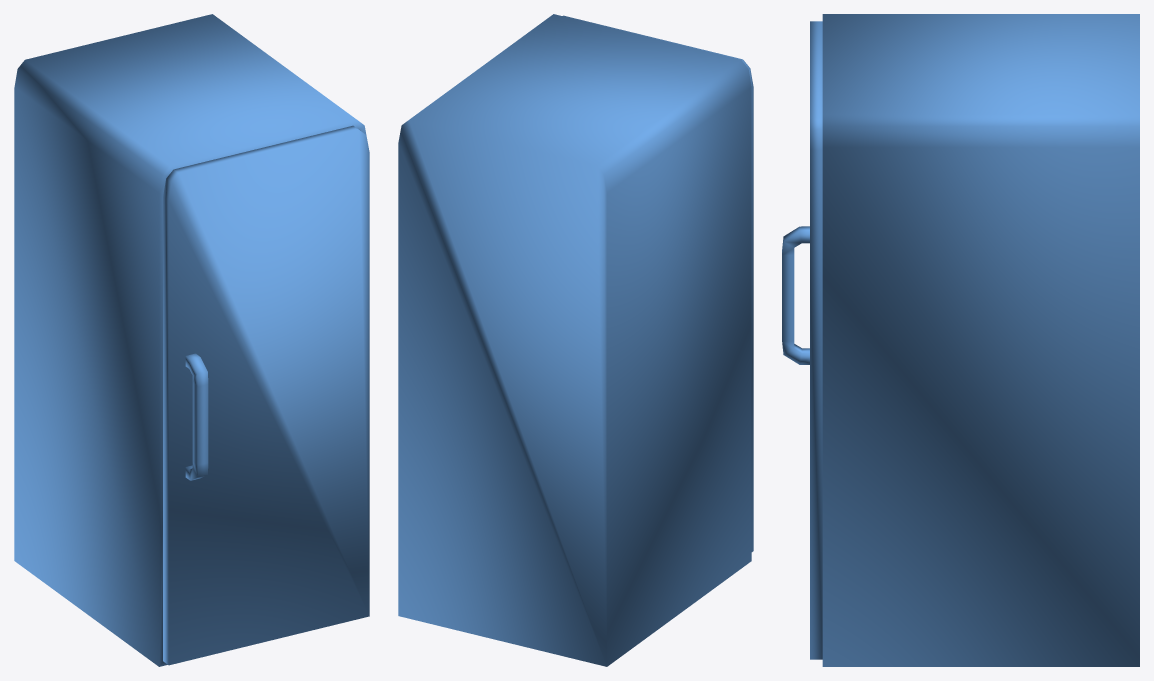
File: Fridge.fbx
The picture shows the model from 3 angles, left to right: view 1: azimuth 30°, elevation 25°; view 2: azimuth 150°, elevation 25°; view 3: azimuth 270°, elevation 25°; orthographic projection. The views are drawn at different scales.
Parts seen in each view (by area): view 1: Fridge, Куб.006; view 2: Fridge, Куб.006; view 3: Fridge, Куб.006.
Boxes of the visible parts, <box> form: Fridge: <box>14,14,366,666</box>; Куб.006: <box>163,125,369,665</box>; Fridge: <box>398,14,751,666</box>; Куб.006: <box>563,15,753,551</box>; Fridge: <box>822,14,1139,666</box>; Куб.006: <box>782,21,822,659</box>.
Size of the model in its own units: 99.87 by 228 by 135.
